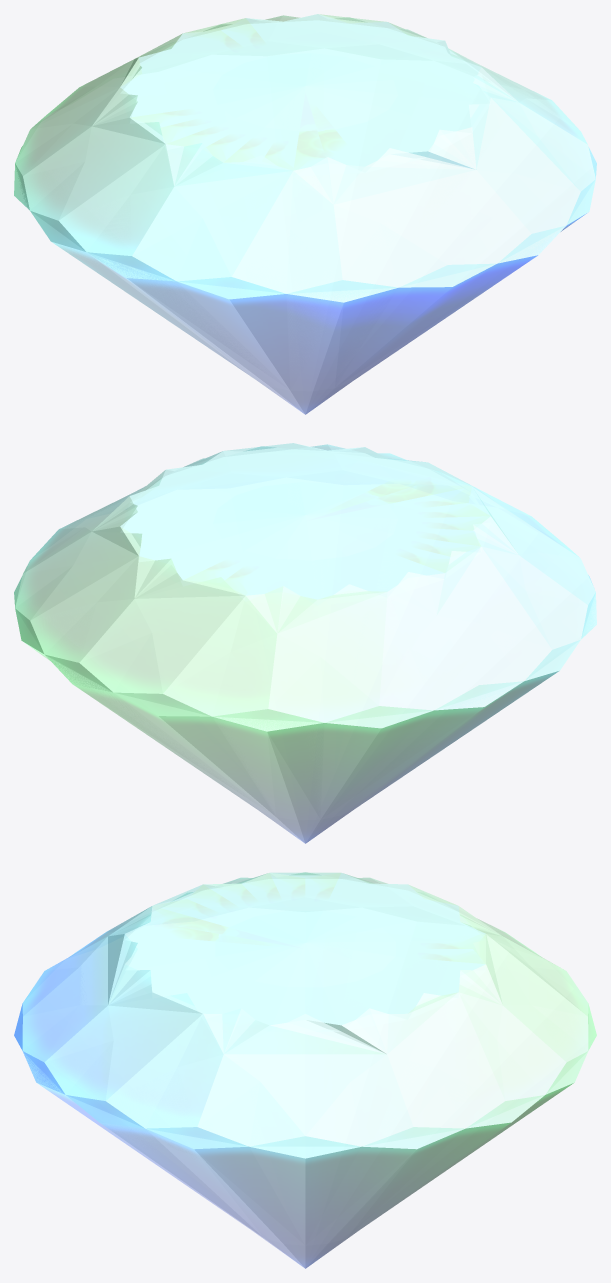
File: diamond_11.glb
The picture shows the model from 3 angles, top to bottom: view 1: azimuth 30°, elevation 25°; view 2: azimuth 150°, elevation 25°; view 3: azimuth 270°, elevation 25°; orthographic projection.
Visible parts, largest first — view 1: pCone1_DiamondOutside_0.001, pCone1_DiamondOutside_0; view 2: pCone1_DiamondOutside_0.001, pCone1_DiamondOutside_0; view 3: pCone1_DiamondOutside_0.001, pCone1_DiamondOutside_0.
Part boxes in pixels (x1,y1,x2,y2): pCone1_DiamondOutside_0.001: (14, 14, 596, 414); pCone1_DiamondOutside_0: (14, 15, 596, 414); pCone1_DiamondOutside_0.001: (14, 443, 596, 843); pCone1_DiamondOutside_0: (14, 444, 596, 843); pCone1_DiamondOutside_0.001: (14, 872, 596, 1267); pCone1_DiamondOutside_0: (14, 872, 596, 1268).
Size of the model in its own units: 2 by 1.23 by 2.
1 material, 1 textured.
